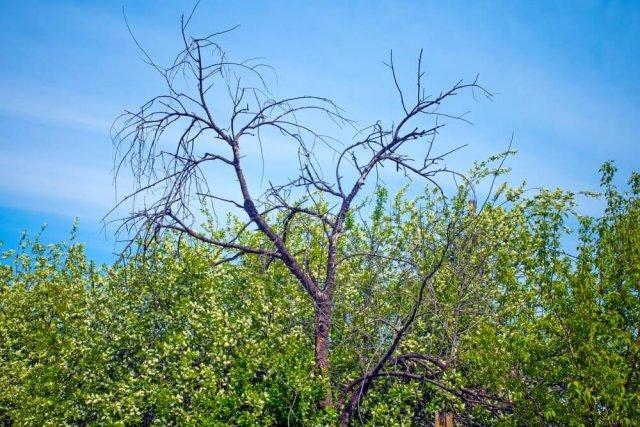baldness: (112, 6, 491, 424)
